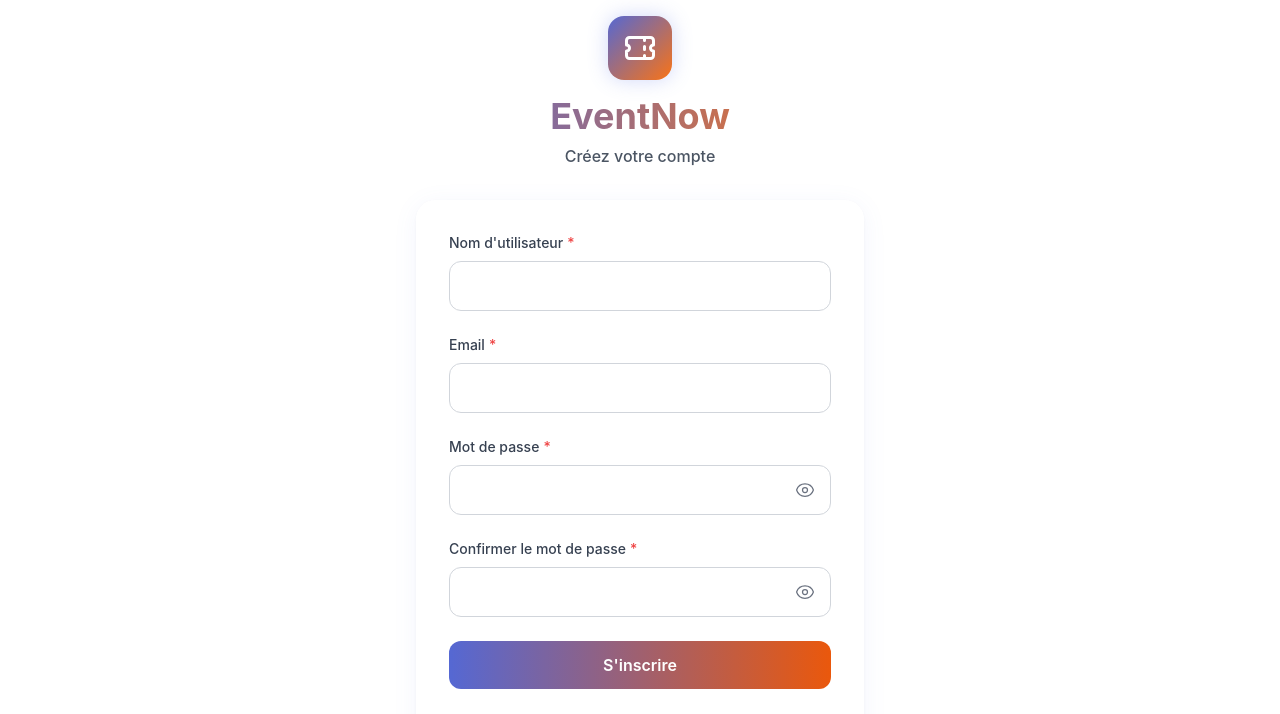
RegisterPage - client-side validation › rejects an empty username
Type "alice@example.com" into the field labelled "Email*".
click(640, 388); type("alice@example.com")  # box [449,363,831,413]
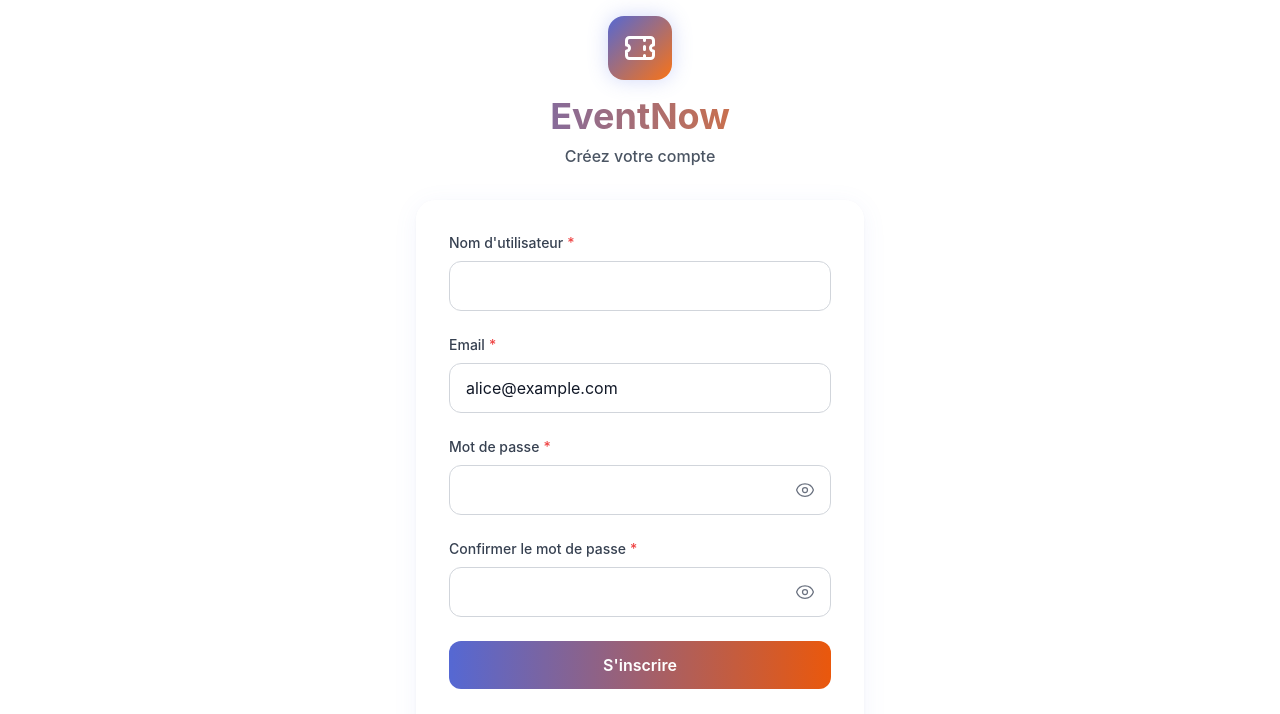
Type "password123" into the password field labelled "Mot de passe*".
click(640, 490); type("password123")  # box [449,465,831,515]
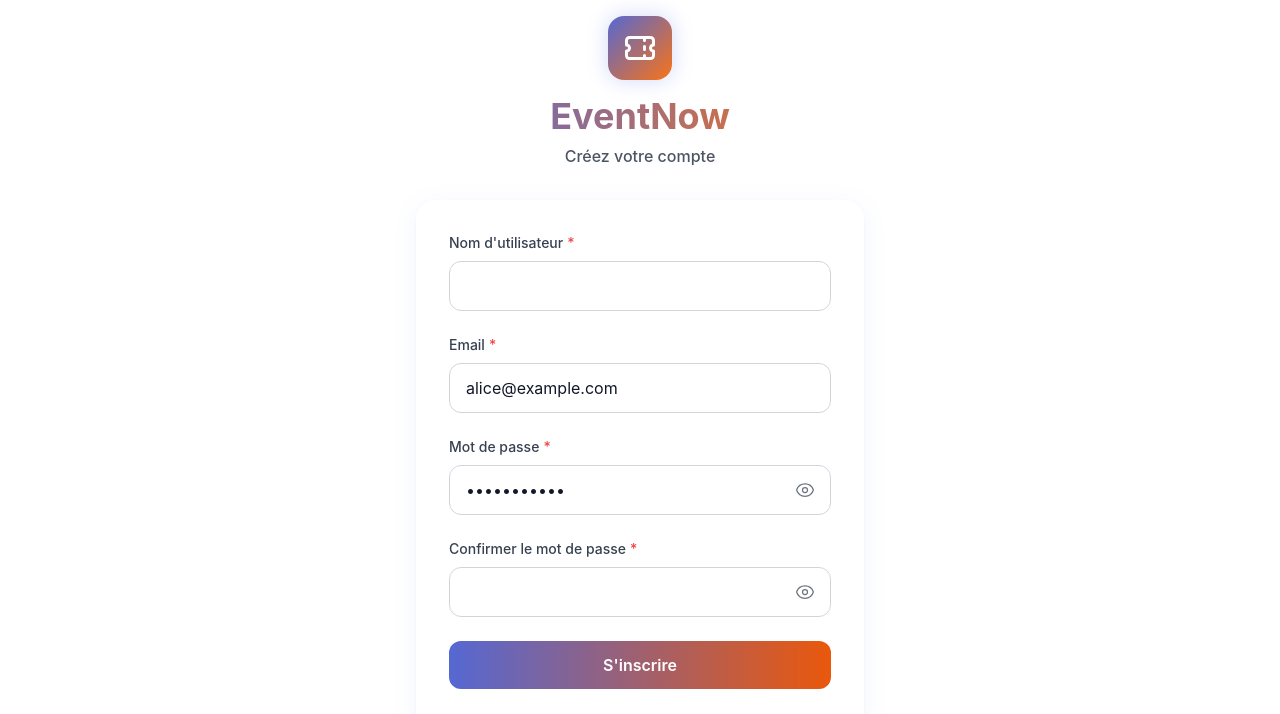
Type "password123" into the password field labelled "Confirmer le mot de passe*".
click(640, 592); type("password123")  # box [449,567,831,617]
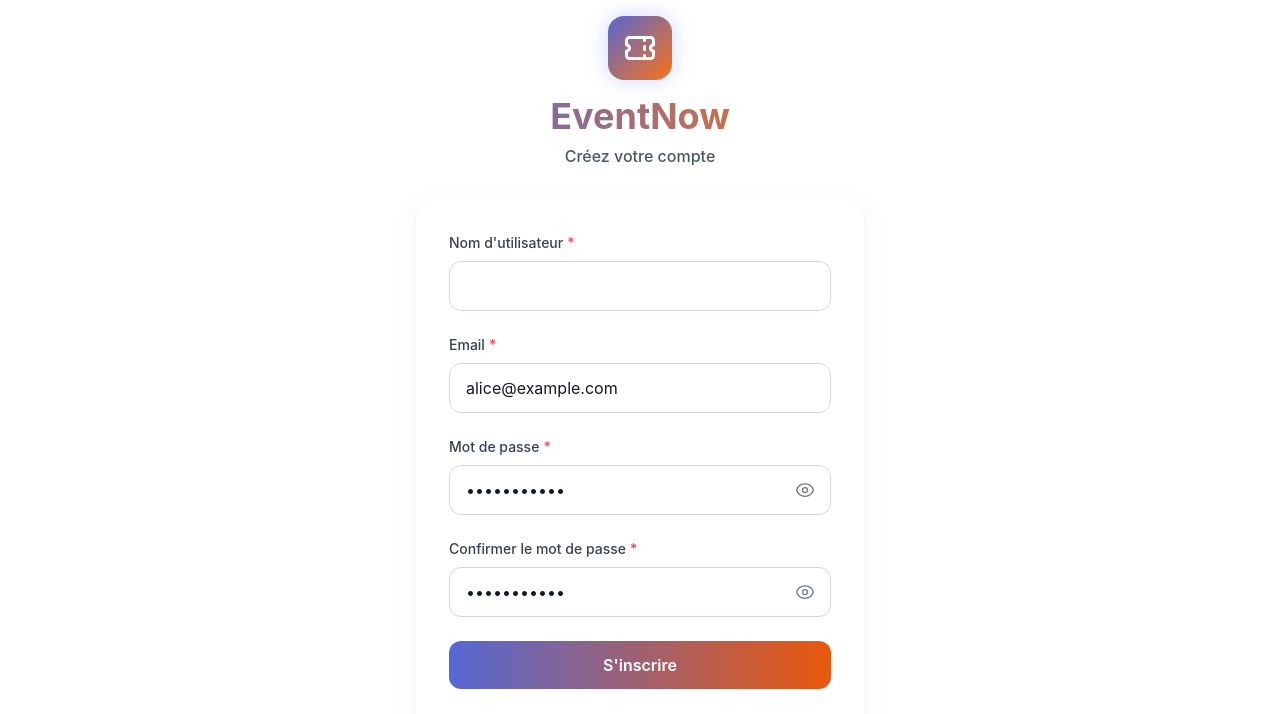
Click the button "S'inscrire".
click(640, 665)  # box [449,641,831,689]
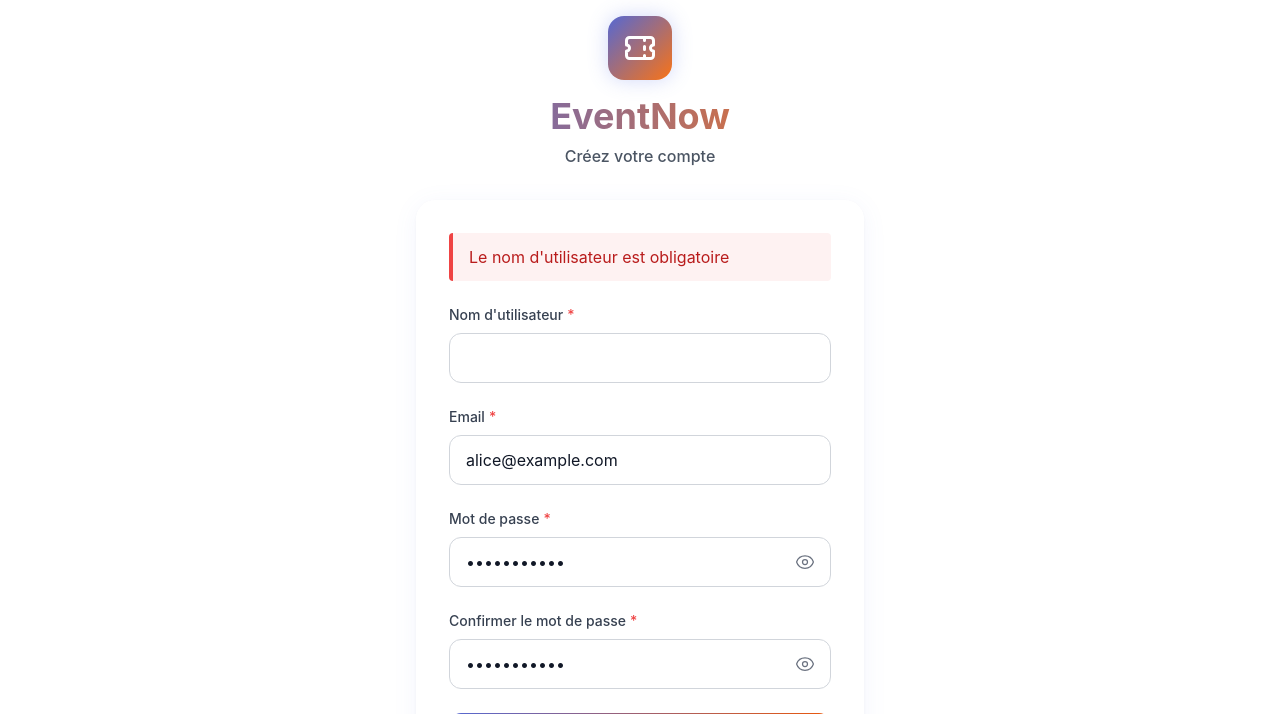
Result: the text "Le nom d'utilisateur est obligatoire" is shown at [469,245,729,269]
